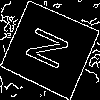N: (24, 24, 79, 76)
